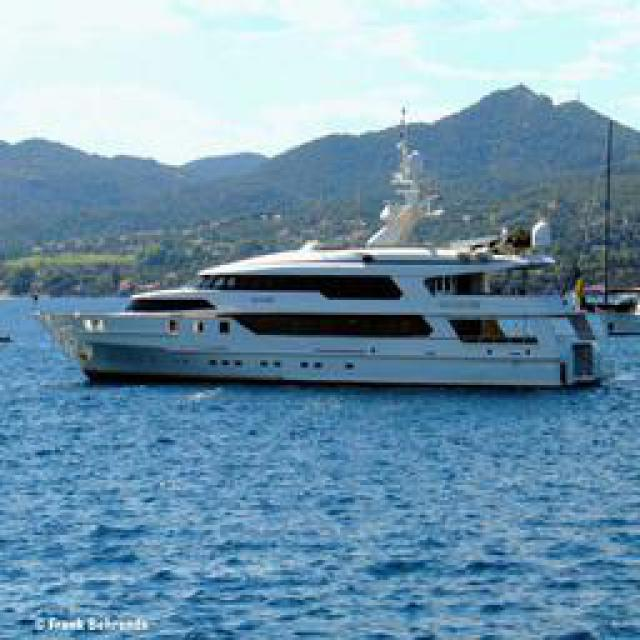Ship: (47, 232, 607, 392)
